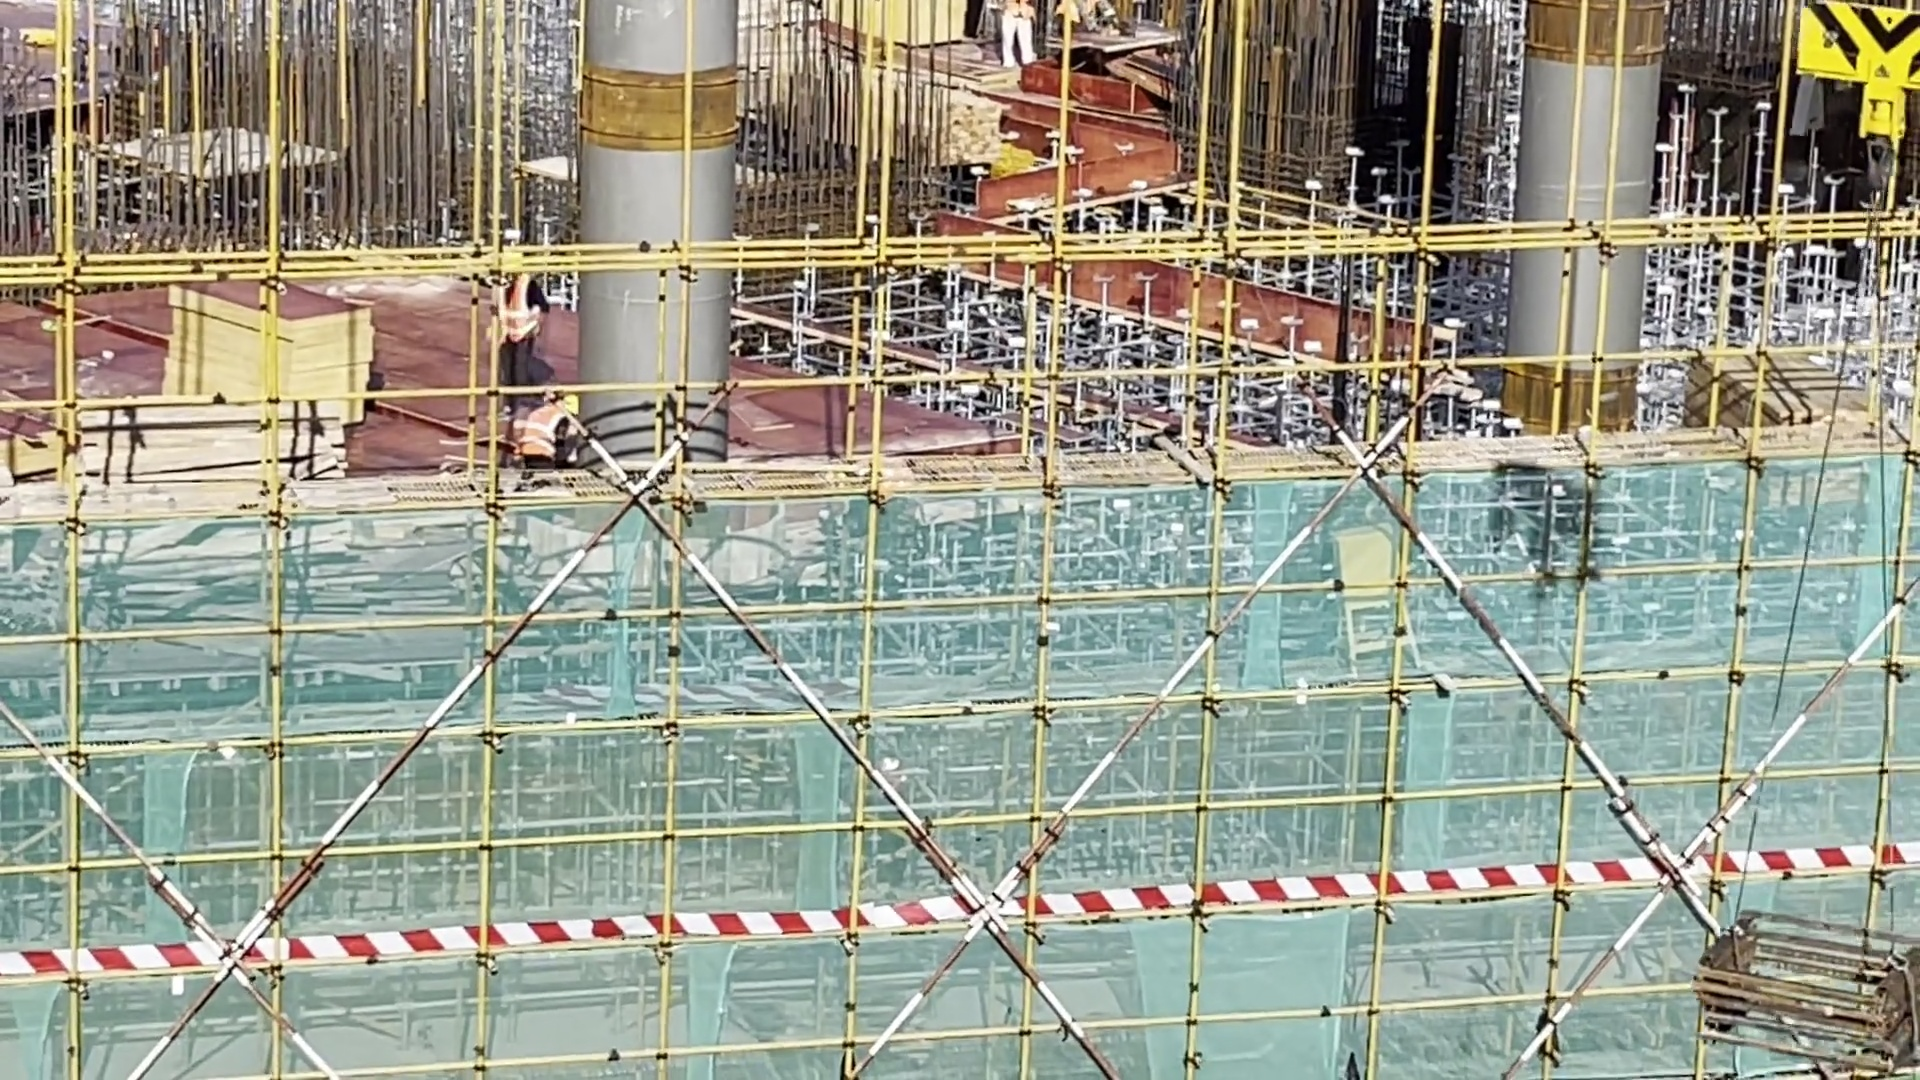board: (165, 276, 373, 448), (1688, 356, 1881, 447)
ebox: (1321, 523, 1427, 672)
helmet: (557, 393, 584, 416)
hook: (1783, 5, 1920, 151)
person: (475, 245, 562, 418), (512, 384, 600, 499), (997, 1, 1051, 81)
vest: (492, 271, 553, 350), (518, 404, 581, 471)
wood: (73, 398, 351, 542)
